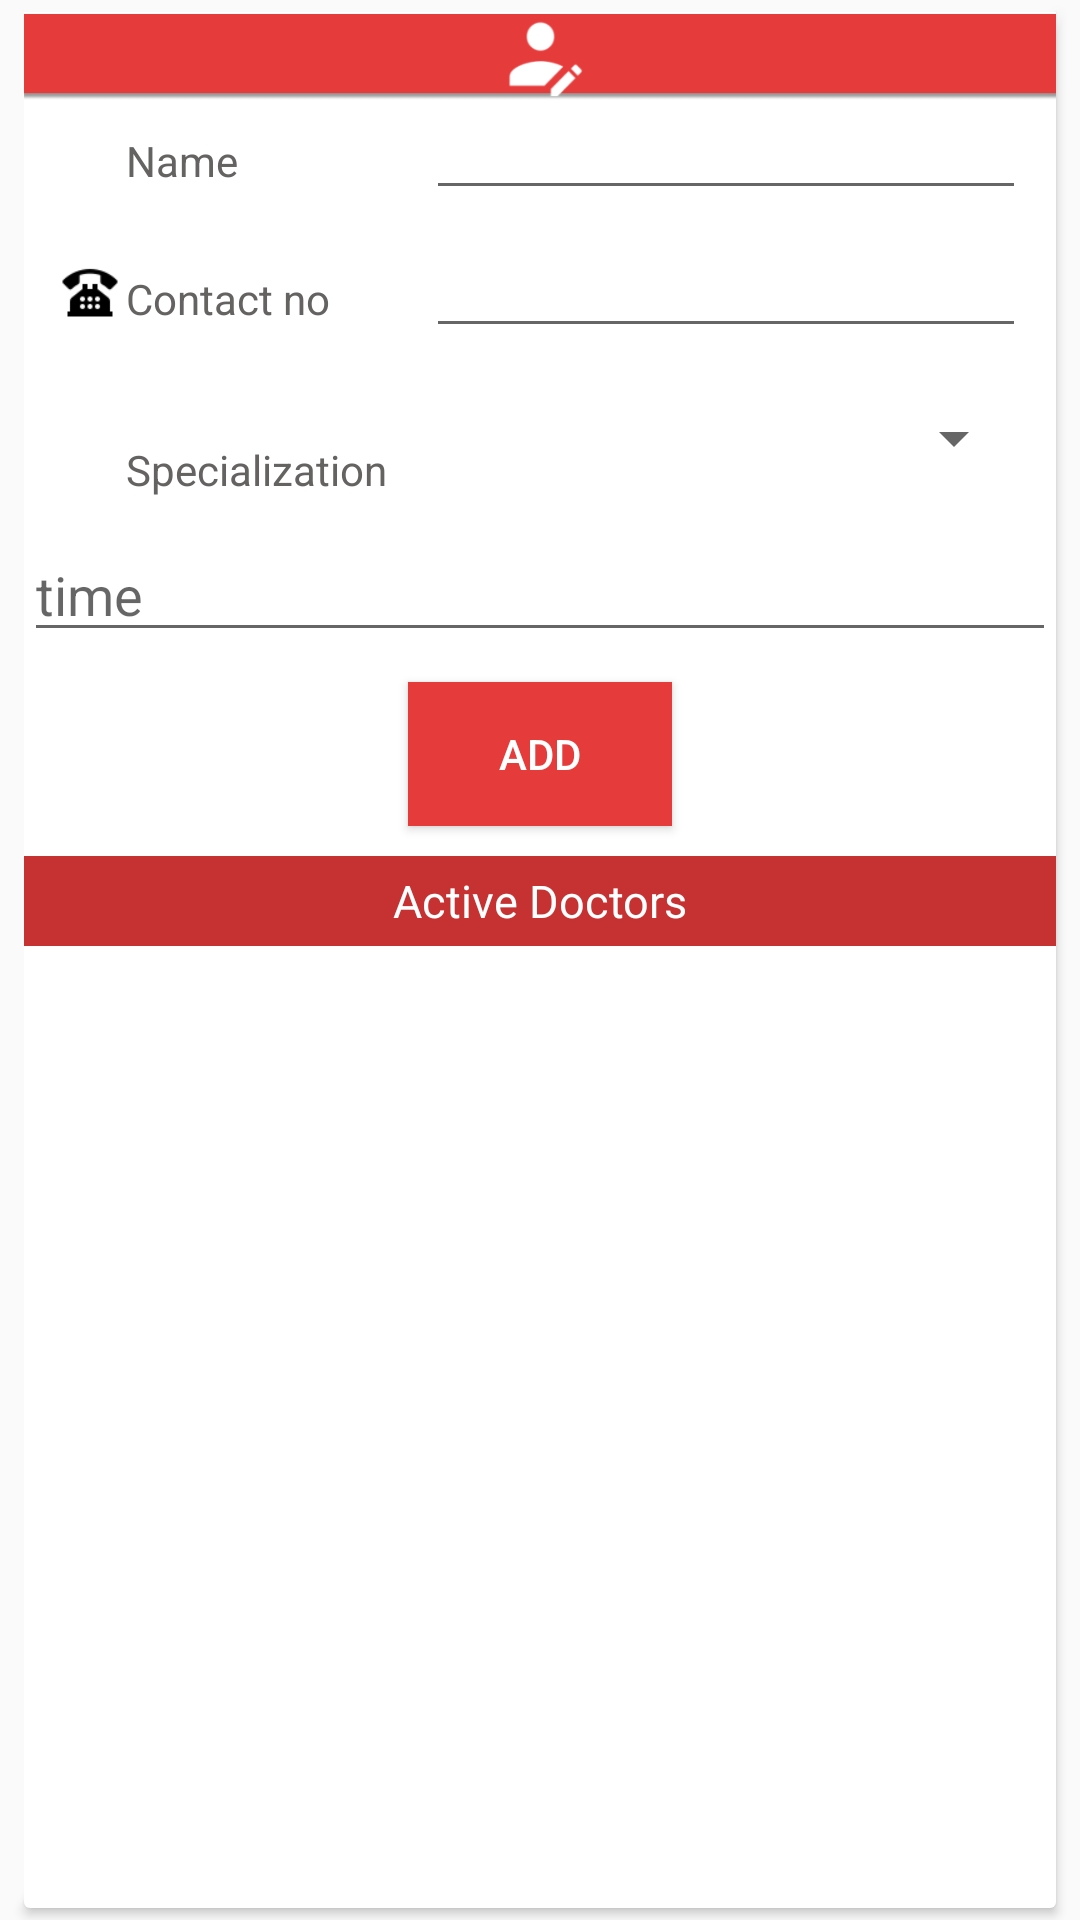

Locate icon controls on the screen. Image size 1080×1920, boxes as bbox=[x1, y1, x2, y2].
phonedetail: bbox=[62, 268, 118, 317]
